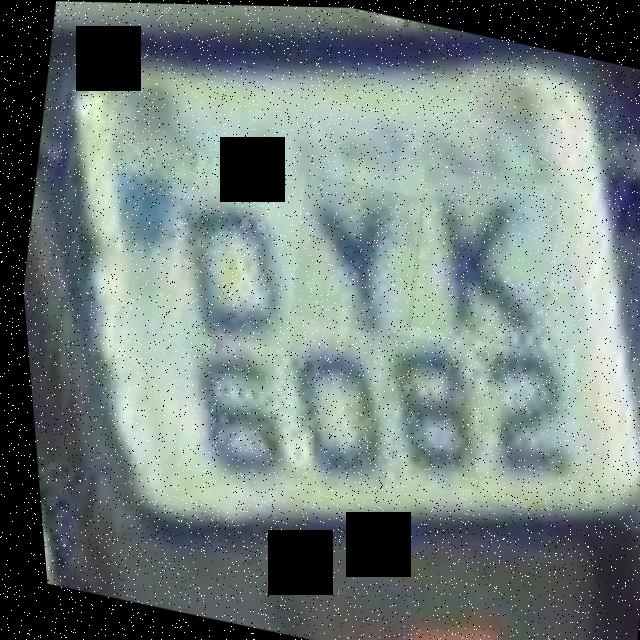0: (242, 311, 407, 500)
8: (158, 328, 309, 491), (354, 329, 501, 491)
D: (152, 176, 306, 353)
K: (392, 161, 568, 352)
Y: (276, 172, 432, 339)
